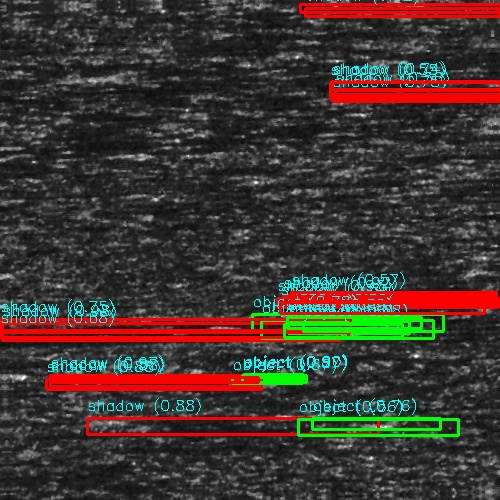rock: (43, 419, 200, 436), (341, 64, 486, 77), (65, 325, 232, 336), (193, 375, 266, 386), (172, 413, 265, 420), (0, 300, 34, 311), (0, 272, 39, 281), (470, 350, 500, 359), (475, 363, 500, 372), (469, 134, 500, 139), (0, 96, 17, 103)
shadow: (122, 419, 411, 436), (149, 325, 500, 336), (230, 375, 457, 386), (8, 300, 223, 311), (0, 5, 195, 16), (8, 272, 152, 281), (2, 96, 169, 103), (414, 64, 500, 77), (219, 413, 365, 420), (0, 190, 35, 195)
